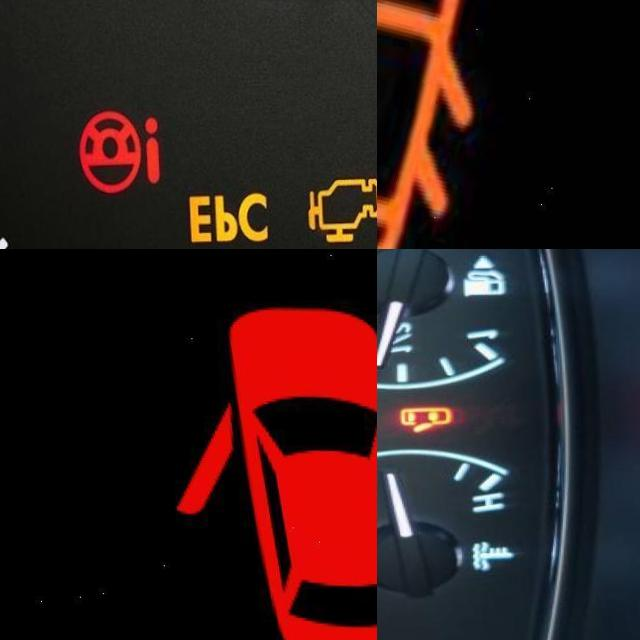Electronic Power Steering: (75, 113, 159, 195)
